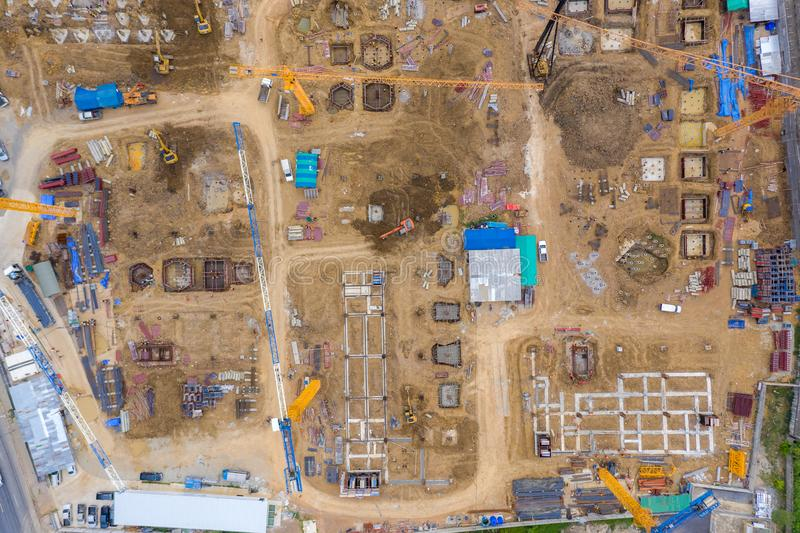crane: (534, 6, 800, 139), (232, 122, 320, 493), (229, 65, 546, 111), (598, 468, 720, 533), (1, 198, 78, 224)
